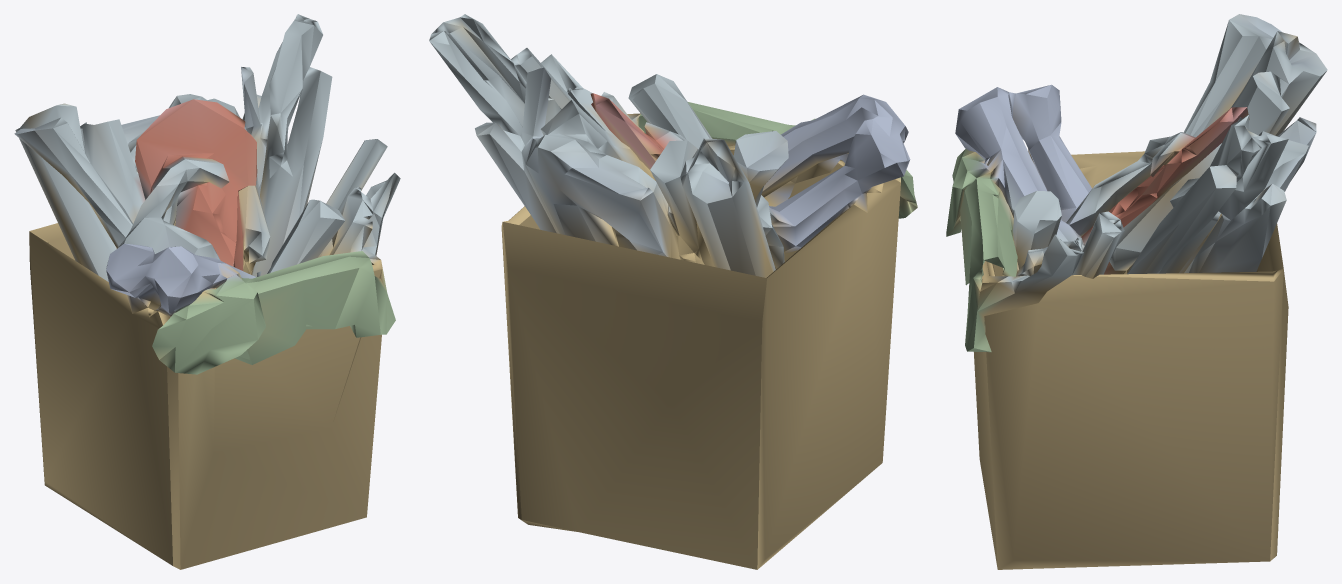
3 views of the same model, side by side, from view 1: azimuth 30°, elevation 25°; view 2: azimuth 150°, elevation 25°; view 3: azimuth 270°, elevation 25° (orthographic). The views are drawn at different scales.
Parts seen in each view (by area): view 1: FullBox; view 2: FullBox; view 3: FullBox.
Part boxes in pixels (<box>): FullBox: <box>14,14,400,569</box>; FullBox: <box>429,14,917,569</box>; FullBox: <box>946,14,1327,569</box>.
Bounding box in the file's own units: 85.93 × 110 × 79.57.
